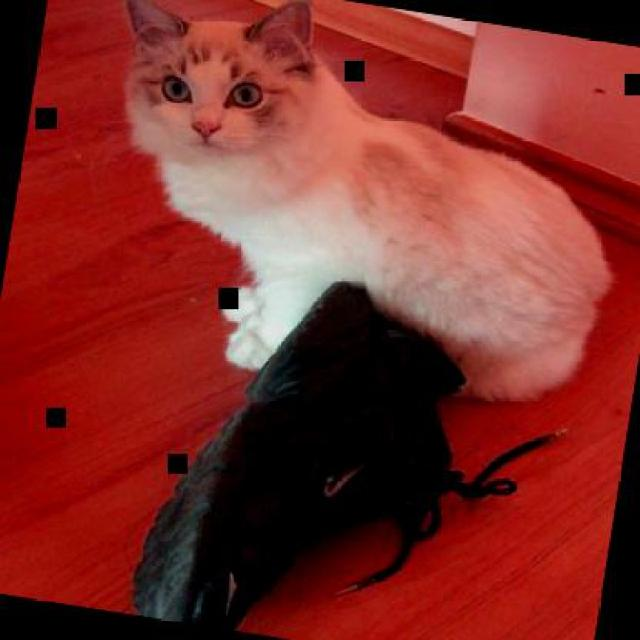cat: (66, 0, 639, 425)
